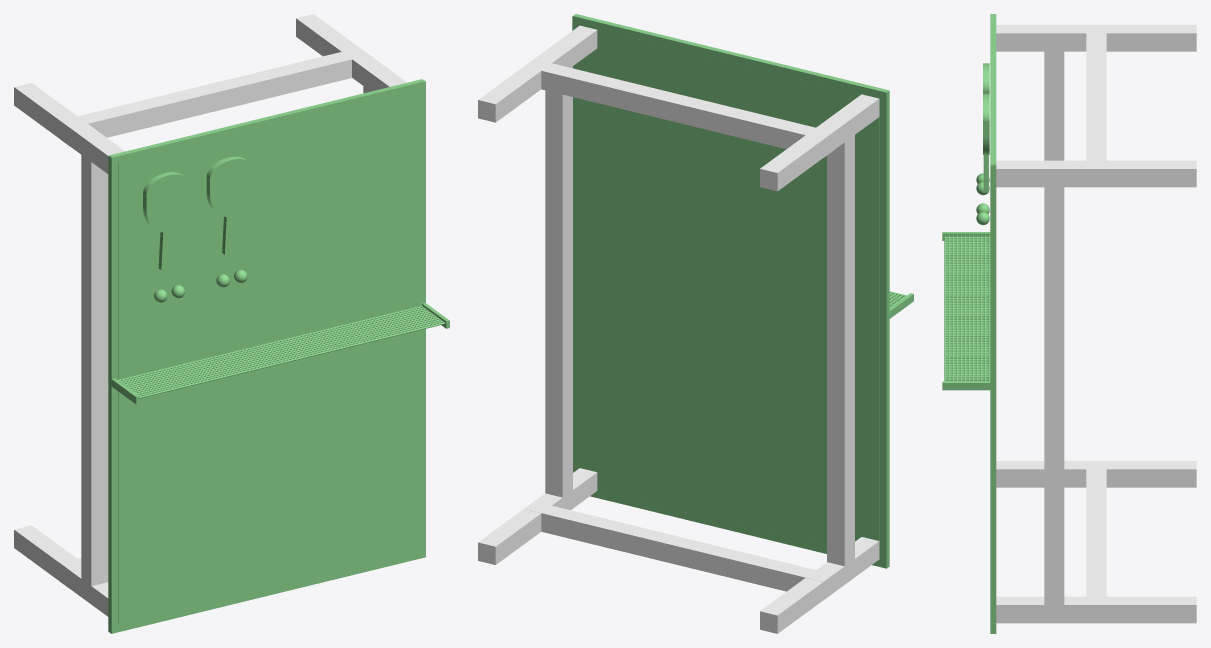
File: Low-Poly_Elite_Ping_Pong_Collection.glb
3 renders of one model, left to right at view 1: azimuth 30°, elevation 25°; view 2: azimuth 150°, elevation 25°; view 3: azimuth 270°, elevation 25°, orthographic.
Visible parts, largest first — view 1: unnamed (×9); view 2: unnamed (×3); view 3: unnamed (×6).
Boxes of the visible parts, <box> form: unnamed (×9): <box>14,14,449,633</box>; unnamed (×3): <box>478,14,889,633</box>; unnamed (×6): <box>942,14,1196,633</box>.
Bounding box in the file's own units: 74.28 × 108 × 52.88.
